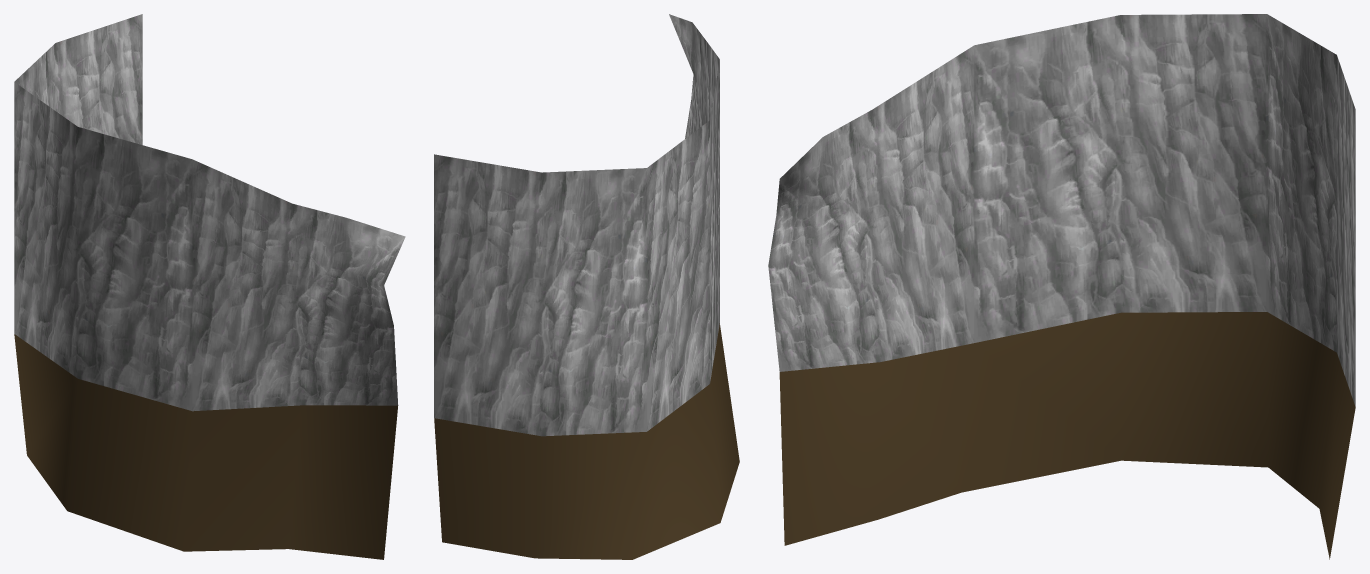
The model's file is SWORDLIGHT20_PS-AREA03_58.fbx.
3 renders of one model, left to right at view 1: azimuth 30°, elevation 25°; view 2: azimuth 150°, elevation 25°; view 3: azimuth 270°, elevation 25°, orthographic. The views are drawn at different scales.
Parts seen in each view (by area): view 1: SWORDLIGHT20_PS-AREA03_58; view 2: SWORDLIGHT20_PS-AREA03_58; view 3: SWORDLIGHT20_PS-AREA03_58.
Part boxes in pixels (x1,y1,x2,y2): SWORDLIGHT20_PS-AREA03_58: [14, 14, 405, 559]; SWORDLIGHT20_PS-AREA03_58: [434, 14, 739, 559]; SWORDLIGHT20_PS-AREA03_58: [768, 14, 1355, 559].
Size of the model in its own units: 63313 by 120135 by 140477.
Materials: 2 (2 with a texture image).
